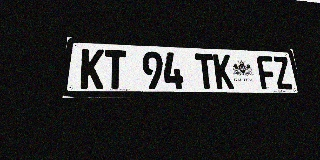4: (163, 52, 184, 89)
9: (142, 51, 164, 89)
F: (256, 56, 278, 89)
K: (80, 49, 104, 89), (213, 54, 234, 89)
T: (104, 50, 126, 89), (195, 53, 216, 89)
Z: (272, 56, 293, 89)
